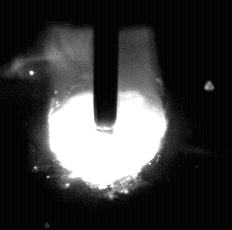arame: (94, 0, 118, 129)
poca: (49, 0, 163, 230)
